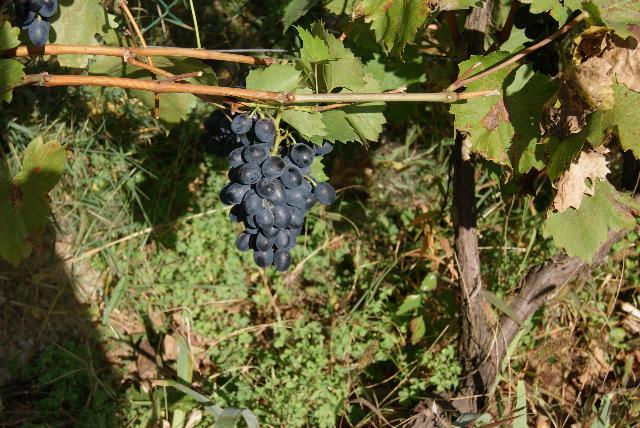grapes: (220, 142, 336, 271)
